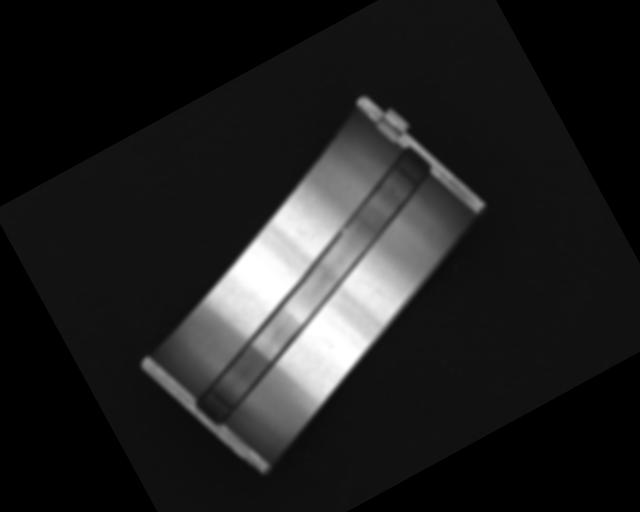gap: (136, 143, 491, 429)
nick: (365, 274, 394, 309)
